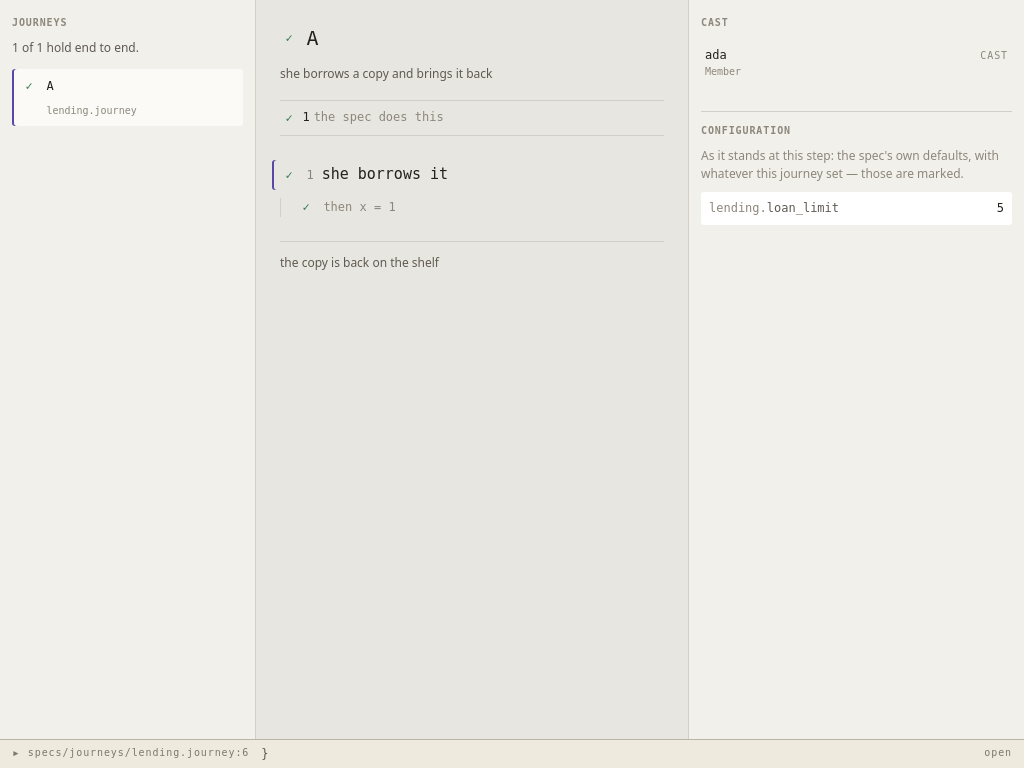
Journeys cast panel › opens a cast member to show what the world held
Click the button "ada Member cast": click(723, 71) [701, 38, 1012, 87]
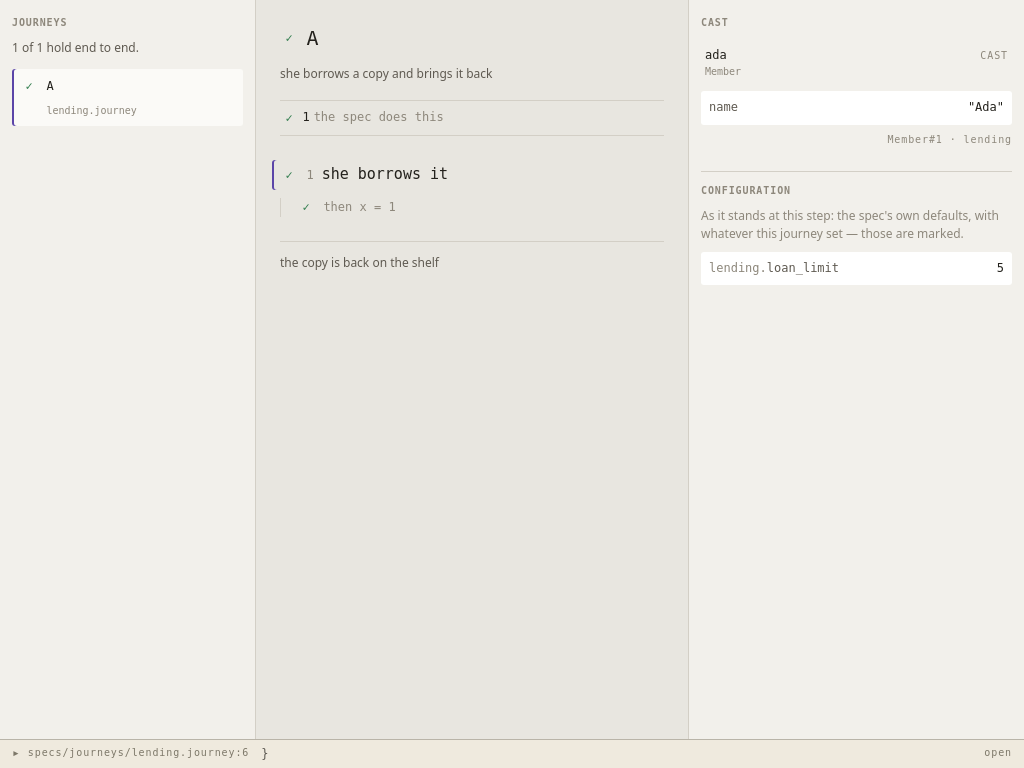
Check: the text "name" is shown, box [709, 100, 738, 114]
Check: the text "\"Ada\"" is shown, box [968, 99, 1004, 117]
